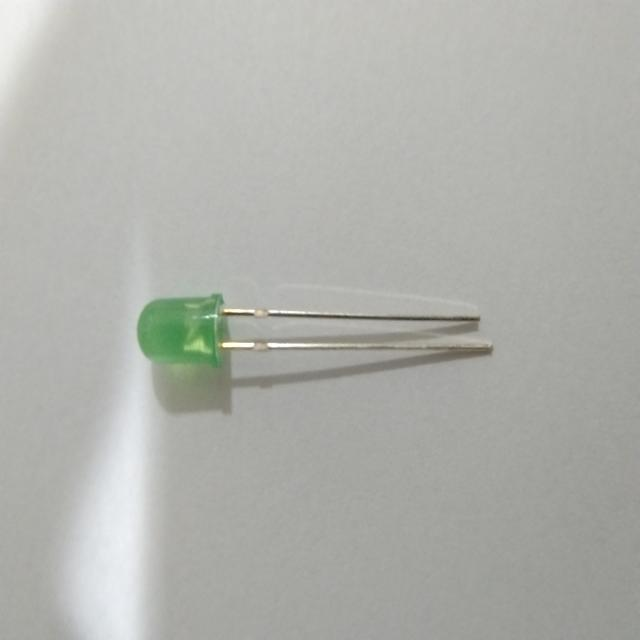green_led: (129, 288, 233, 376)
